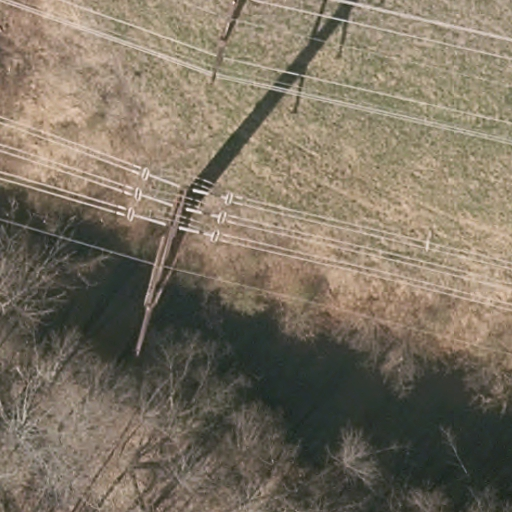TT: (126, 164, 235, 370)
